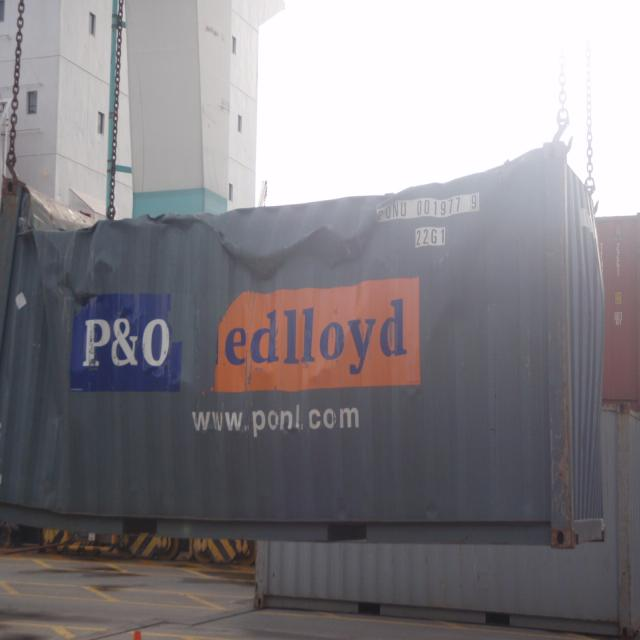dent: (41, 225, 461, 400), (26, 199, 428, 237), (365, 149, 543, 203), (38, 387, 68, 514)
